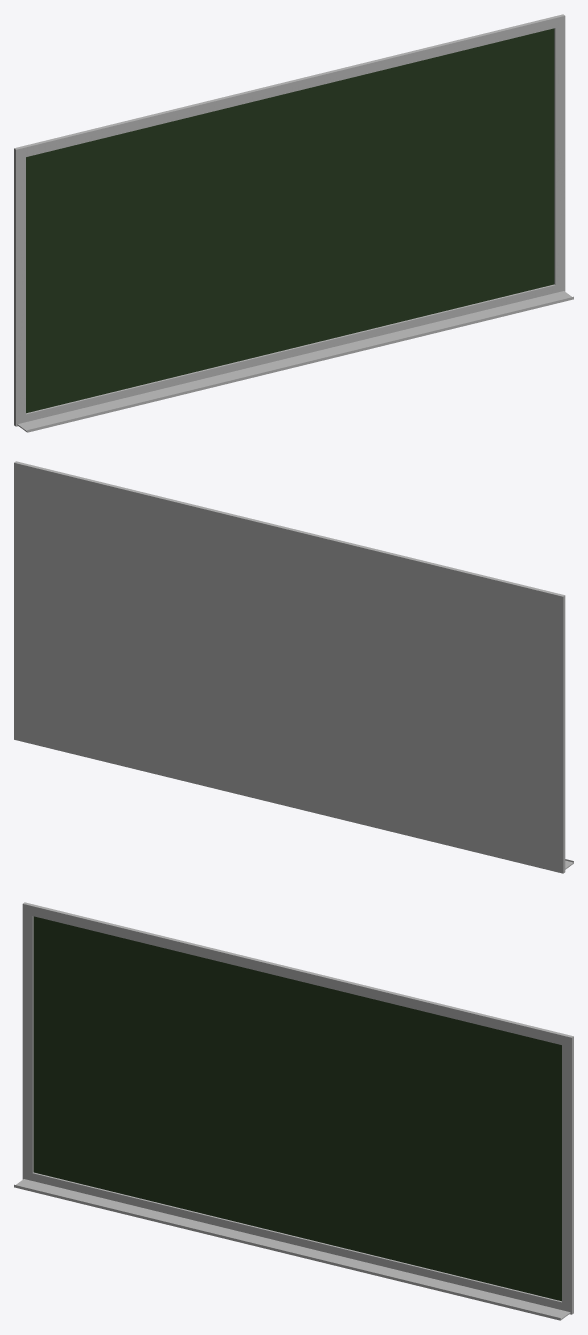
File: whiteboard_New.fbx
3 renders of one model, top to bottom at view 1: azimuth 30°, elevation 25°; view 2: azimuth 150°, elevation 25°; view 3: azimuth 330°, elevation 25°, orthographic.
Visible parts, largest first — view 1: boardFace, boardEdge, pCube1, pCube2; view 2: boardBack, boardEdge; view 3: boardFace, boardEdge, pCube1, pCube2.
Boxes of the visible parts, <box> form: boardFace: <box>26,28,554,413</box>; boardEdge: <box>14,14,565,426</box>; pCube1: <box>17,291,571,431</box>; pCube2: <box>27,296,573,432</box>; boardBack: <box>24,475,553,862</box>; boardEdge: <box>14,461,565,873</box>; boardFace: <box>33,916,561,1301</box>; boardEdge: <box>22,902,573,1314</box>; pCube1: <box>16,1179,570,1319</box>; pCube2: <box>14,1184,560,1320</box>.
Bounding box in the file's own units: 3.83 × 1.85 × 0.1453.
